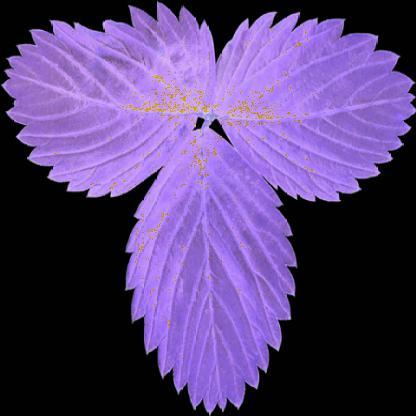Strawberry leaf: (122, 124, 305, 415), (1, 1, 214, 202), (215, 12, 415, 203)
